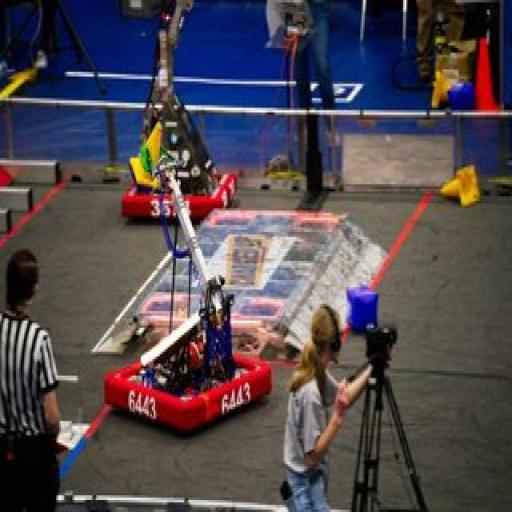robot: (104, 164, 271, 446), (119, 0, 257, 221)
